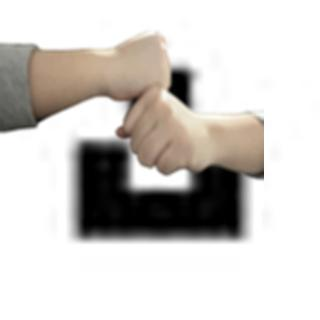CAREFUL: (36, 32, 247, 168)
